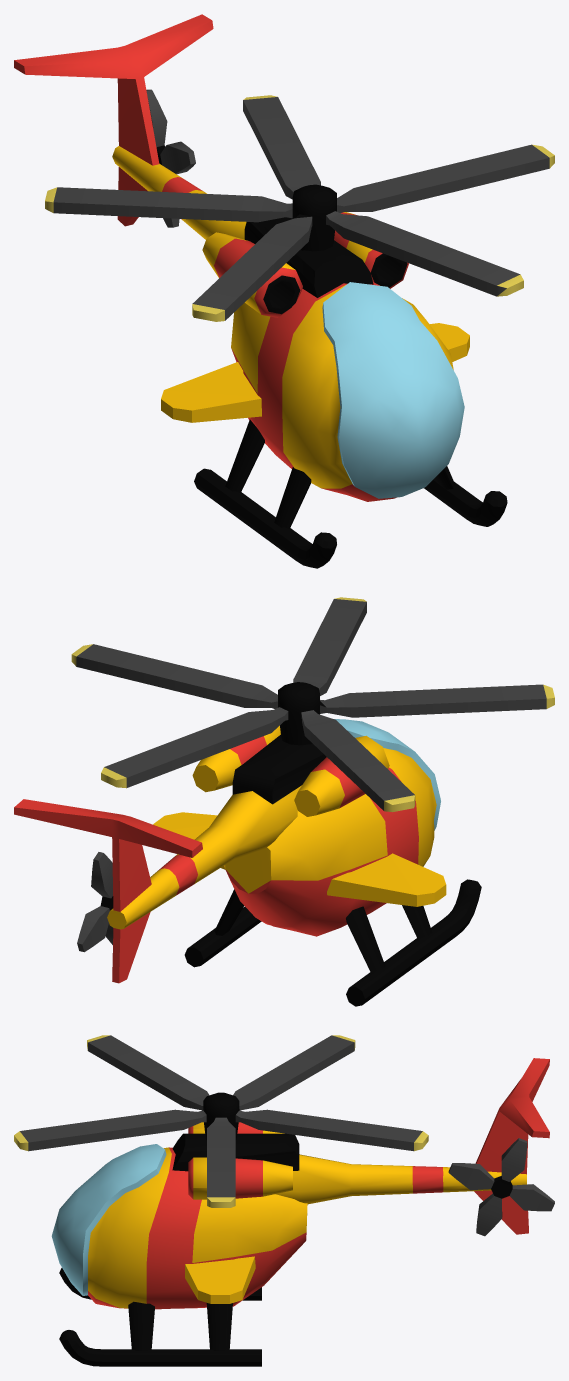
Rendered from Helicopter.fbx.
3 renders of one model, top to bottom at view 1: azimuth 30°, elevation 25°; view 2: azimuth 150°, elevation 25°; view 3: azimuth 270°, elevation 25°, orthographic. The views are drawn at different scales.
Parts seen in each view (by area): view 1: Sphere.010, Cylinder.623, Cube.536, Plane.088, Cube.537, Cylinder.624, Cylinder.622, Plane.089, Plane.090; view 2: Cylinder.623, Sphere.010, Cube.536, Plane.088, Cube.537, Cylinder.624, Cylinder.622, Plane.090, Plane.089; view 3: Sphere.010, Cylinder.623, Cube.536, Plane.088, Cylinder.622, Cylinder.624, Cube.537, Plane.089, Plane.090.
Boxes of the visible parts, <box> form: Sphere.010: <box>231,282,464,501</box>; Cylinder.623: <box>45,95,554,321</box>; Cube.536: <box>14,14,373,297</box>; Plane.088: <box>194,468,507,568</box>; Cube.537: <box>161,323,469,422</box>; Cylinder.624: <box>202,212,408,317</box>; Cylinder.622: <box>146,89,195,227</box>; Plane.089: <box>274,466,455,528</box>; Plane.090: <box>225,419,264,492</box>; Cylinder.623: <box>71,597,554,812</box>; Sphere.010: <box>224,719,440,936</box>; Cube.536: <box>14,734,326,983</box>; Plane.088: <box>184,879,481,1006</box>; Cube.537: <box>153,812,446,906</box>; Cylinder.624: <box>192,725,389,816</box>; Cylinder.622: <box>77,852,113,952</box>; Plane.090: <box>214,889,385,972</box>; Plane.089: <box>402,905,432,938</box>; Sphere.010: <box>51,1144,307,1309</box>; Cylinder.623: <box>14,1035,428,1207</box>; Cube.536: <box>172,1058,549,1234</box>; Plane.088: <box>59,1268,261,1366</box>; Cylinder.622: <box>448,1138,554,1236</box>; Cylinder.624: <box>188,1122,292,1199</box>; Cube.537: <box>185,1256,255,1303</box>; Plane.089: <box>128,1301,154,1350</box>; Plane.090: <box>206,1303,232,1350</box>.
Size of the model in its own units: 1074 by 718 by 1474.
